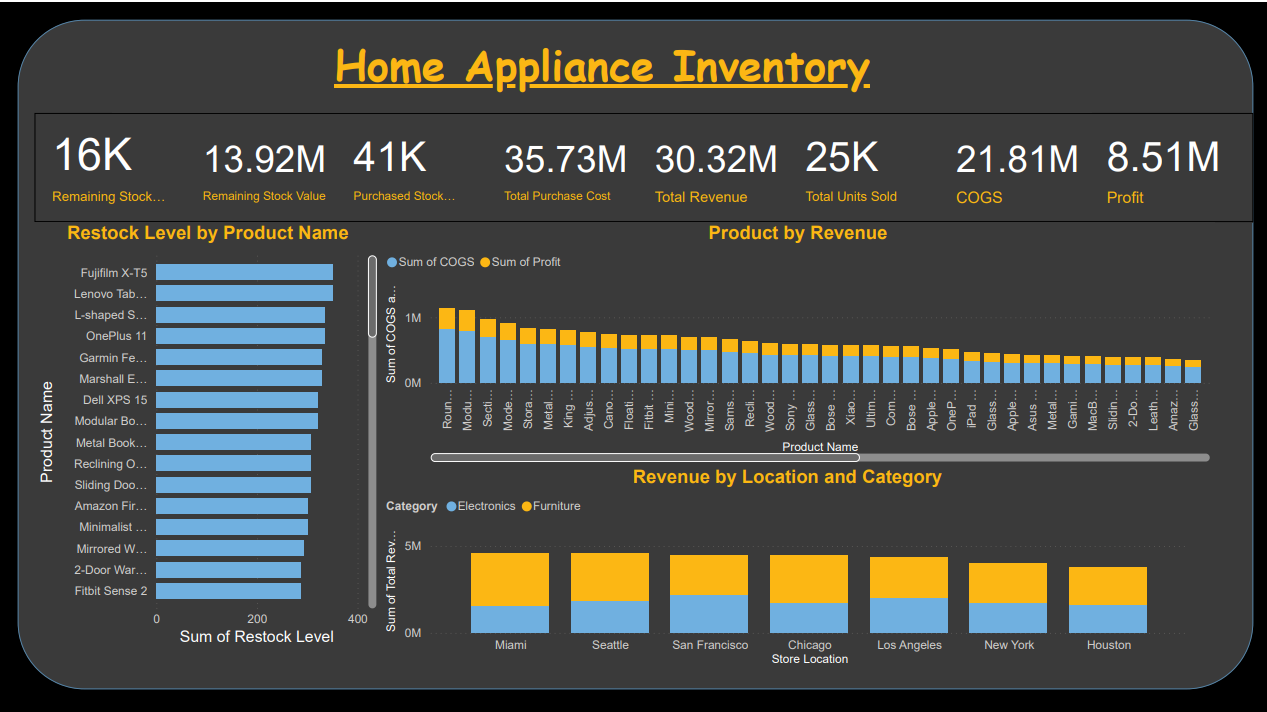

The dashboard page shown, as its layout file describes it:
{"tool":"powerbi","page":{"name":"Page 1","canvas":[1280,720],"ordinal":0},"visuals":[{"type":"shape","box":[17,17,1247.3,674.7],"z":0},{"type":"cardVisual","fields":{"Data":["Sum(Home Appliance Inventory.Remaining Stock Quantity)","Sum(Home Appliance Inventory.Remaining Stock Value)","Sum(Home Appliance Inventory.Purchased Stock Quantity)","Sum(Home Appliance Inventory.Total Purchased Cost)","Sum(Home Appliance Inventory.Total Revenue)","Sum(Home Appliance Inventory.Units Sold)","Sum(Home Appliance Inventory.COGS)","Sum(Home Appliance Inventory.Profit)"]},"box":[34,111.5,1230.2,109.6],"z":1000},{"type":"textbox","box":[112.9,27.1,988.6,84.3],"z":2000},{"type":"barChart","title":"Restock Level by Product Name","fields":{"Category":["Home Appliance Inventory.Product Name"],"Y":["Sum(Home Appliance Inventory.Restock Level)"]},"box":[34,221.1,349.6,430.9],"z":3000},{"type":"columnChart","title":"Product by Revenue","fields":{"Category":["Home Appliance Inventory.Product Name"],"Y":["Sum(Home Appliance Inventory.COGS)","Sum(Home Appliance Inventory.Profit)"]},"box":[383.6,221.1,841,245.7],"z":4000},{"type":"columnChart","title":"Revenue by  Location and Category","fields":{"Category":["Home Appliance Inventory.Store Location"],"Y":["Sum(Home Appliance Inventory.Total Revenue)"],"Series":["Home Appliance Inventory.Category"]},"box":[383.6,466.8,820.2,206],"z":5000}]}

Visuals, with their boxes in screenshot pixels (x1, y1, x2, y2), scaled from the page's 1280x720 canvas onto the 1267x712 screenshot:
shape: <bbox>17, 17, 1251, 684</bbox>
cardVisual - Sum(Home Appliance Inventory.Remaining Stock Quantity) x Sum(Home Appliance Inventory.Remaining Stock Value): <bbox>34, 110, 1251, 219</bbox>
textbox: <bbox>112, 27, 1090, 110</bbox>
"Restock Level by Product Name" barChart: <bbox>34, 219, 380, 645</bbox>
"Product by Revenue" columnChart: <bbox>380, 219, 1212, 462</bbox>
"Revenue by  Location and Category" columnChart: <bbox>380, 462, 1192, 665</bbox>
